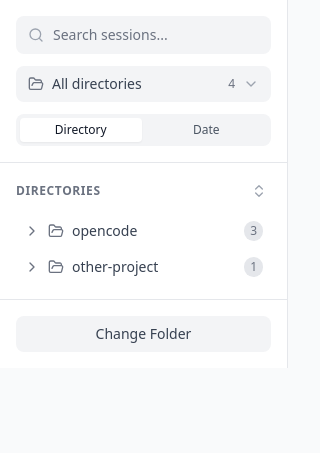
it: SessionBrowser › search input › filters sessions when searching by title
The width and height of the screenshot is (320, 453).
// Expand directory first to see sessions
Step 1. Click the button with aria-label "Expand opencode" → (144, 231), box [16,215,271,247]
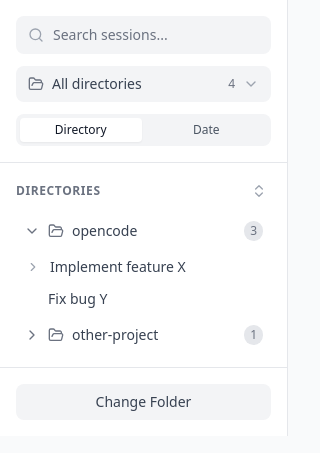
Now the text "Implement feature X" is shown, box [50,257,186,276]
Now the text "Fix bug Y" is shown, box [48,289,107,308]
// Type in search
Step 2. Type "feature" into the field with placeholder "Search sessions..." → (144, 35), box [16,16,271,54]
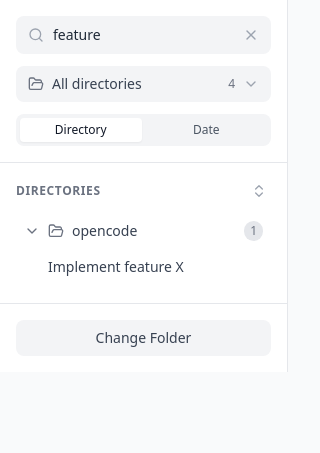
Now the text "Implement feature X" is shown, box [48,257,184,276]
Now the button "Fix bug Y" is gone
